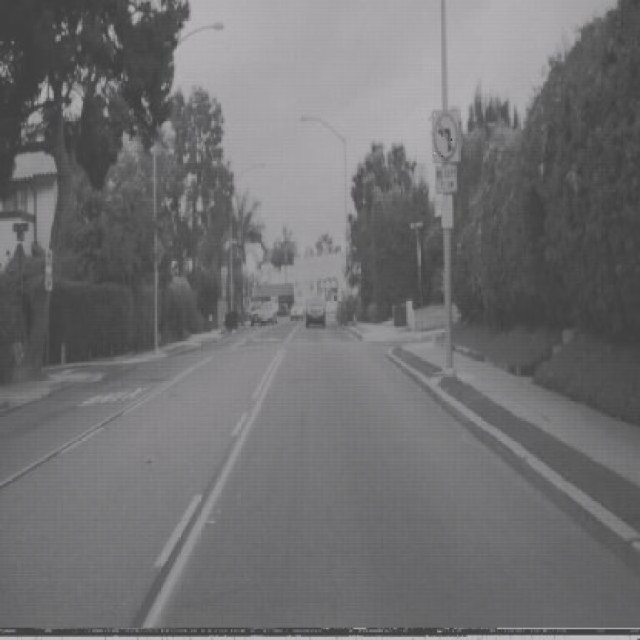noLeftTurn: (432, 109, 460, 163)
